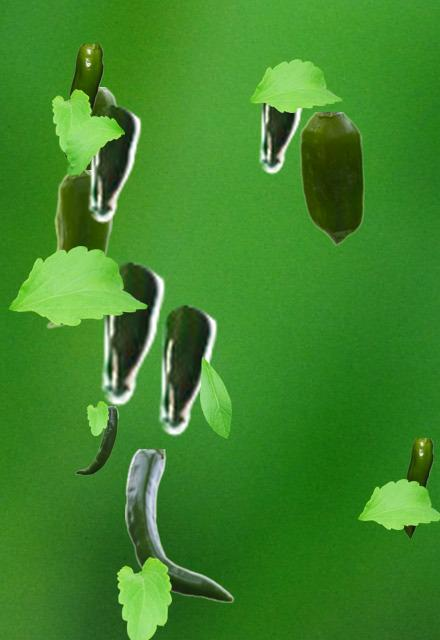green_chili: (125, 449, 233, 601), (45, 170, 111, 328), (97, 260, 165, 405), (299, 112, 363, 244), (155, 303, 217, 435), (85, 103, 141, 222), (256, 67, 306, 173), (63, 44, 102, 163), (403, 438, 432, 538), (75, 406, 117, 474), (88, 87, 116, 169)
